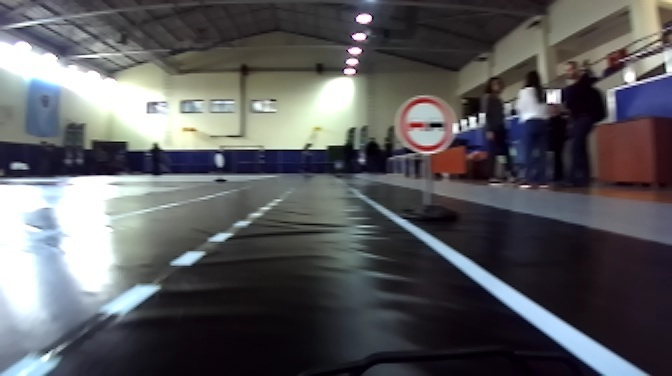sollama_yasak: (393, 91, 454, 156)
